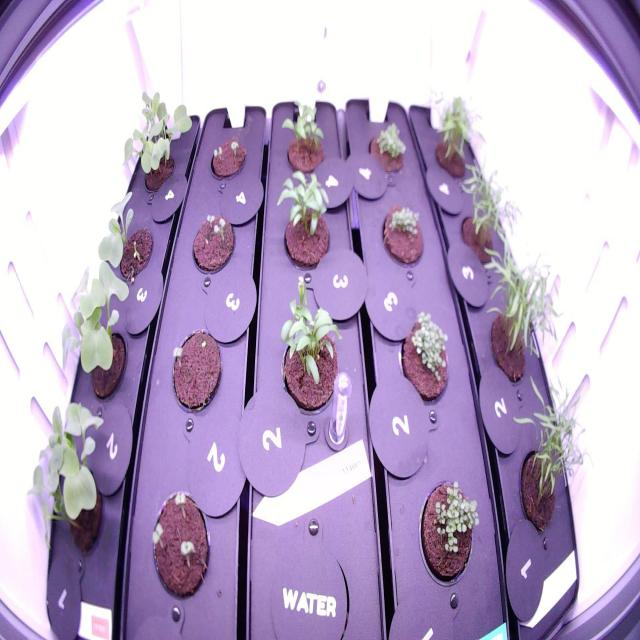germination: (272, 274, 351, 425), (140, 476, 220, 612), (414, 470, 484, 597), (272, 165, 346, 277), (164, 319, 228, 426), (93, 187, 156, 290), (396, 307, 456, 411), (275, 90, 337, 188), (378, 197, 432, 278), (187, 202, 240, 283), (363, 115, 411, 181), (204, 128, 252, 186)
